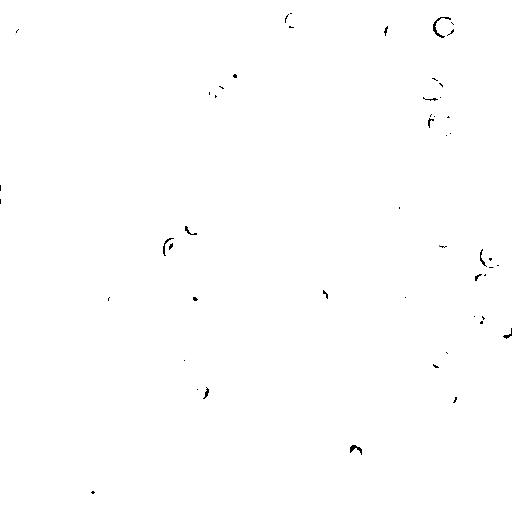micro-algae: (163, 308, 252, 396), (0, 219, 36, 279), (85, 253, 128, 293), (65, 295, 101, 331), (427, 107, 459, 138), (218, 60, 250, 90), (108, 401, 137, 433), (0, 391, 27, 422), (333, 447, 364, 474), (2, 450, 31, 478), (167, 1, 222, 15), (145, 238, 172, 266), (162, 238, 190, 263), (417, 76, 445, 101), (480, 243, 506, 269), (431, 14, 457, 39), (385, 282, 412, 306), (259, 385, 282, 412), (83, 482, 106, 508), (433, 226, 456, 250), (117, 254, 139, 278), (470, 272, 496, 292), (431, 346, 453, 369), (150, 108, 171, 132), (308, 286, 331, 307), (384, 21, 405, 42), (283, 10, 302, 30), (322, 429, 342, 448), (207, 84, 228, 102), (440, 388, 460, 406), (183, 220, 202, 238), (49, 76, 65, 96), (181, 287, 199, 304), (398, 197, 414, 216), (2, 184, 16, 205), (15, 27, 31, 44), (495, 324, 512, 340), (196, 384, 210, 401), (107, 0, 130, 10), (471, 312, 487, 326), (203, 503, 227, 512), (181, 349, 195, 364), (415, 187, 427, 204), (108, 292, 122, 306), (349, 444, 364, 457), (328, 0, 348, 6)
